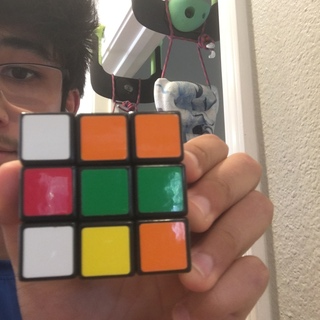face: (21, 113, 189, 279)
